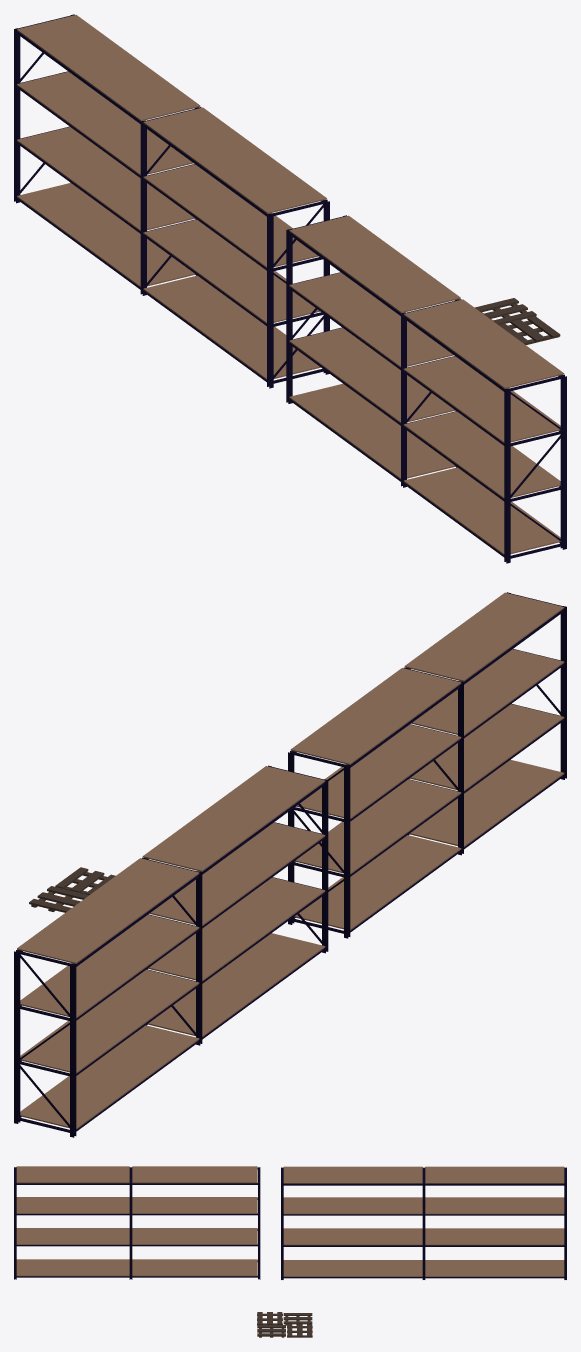
Rendered from lemari.fbx.
3 renders of one model, top to bottom at view 1: azimuth 30°, elevation 25°; view 2: azimuth 150°, elevation 25°; view 3: azimuth 270°, elevation 25°, orthographic. The views are drawn at different scales.
Parts seen in each view (by area): view 1: 07. lemari.002, 07. lemari.001, 07. lemari.003; view 2: 07. lemari.002, 07. lemari.001, 07. lemari.003; view 3: 07. lemari.002, 07. lemari.001, 07. lemari.003.
Part boxes in pixels (box(x1,y1,x2,y2)): 07. lemari.002: box(14, 14, 329, 388); 07. lemari.001: box(286, 215, 566, 563); 07. lemari.003: box(474, 298, 560, 344); 07. lemari.002: box(14, 765, 328, 1137); 07. lemari.001: box(288, 592, 566, 938); 07. lemari.003: box(29, 867, 115, 912); 07. lemari.002: box(281, 1166, 566, 1279); 07. lemari.001: box(14, 1166, 260, 1279); 07. lemari.003: box(257, 1312, 312, 1337).
Bounding box in the file's own units: 541 × 328 × 1688.
